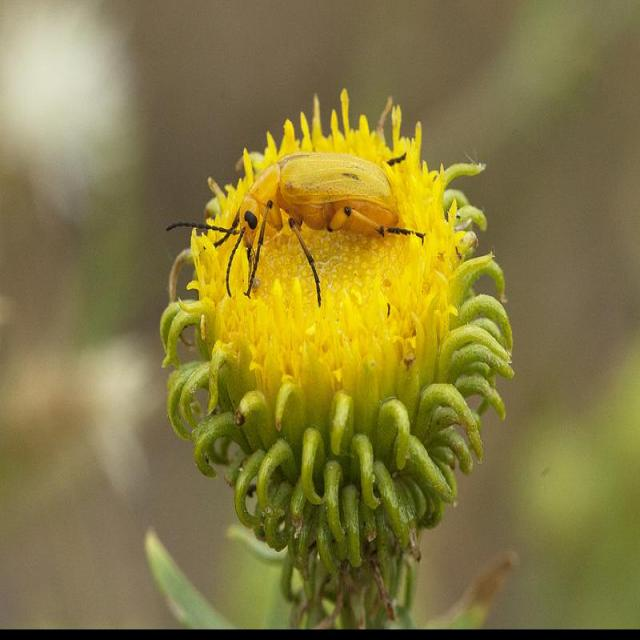BlisterBeetle-Adult-: (163, 129, 441, 313)
